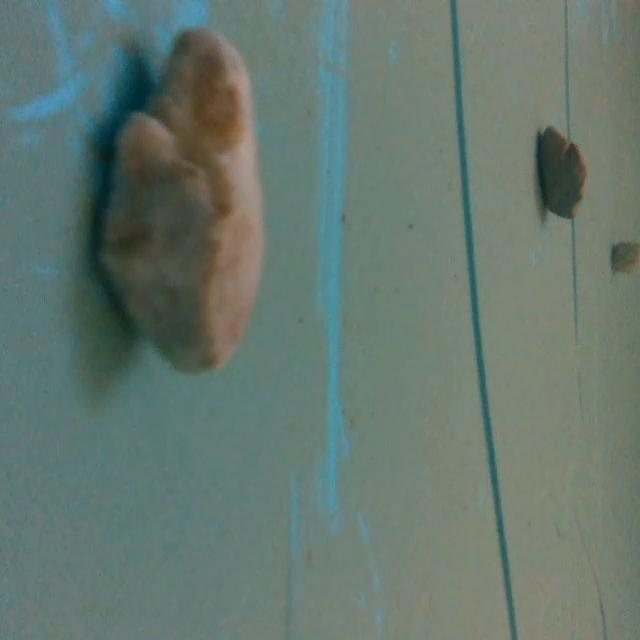rock: (87, 16, 270, 381), (531, 120, 592, 226)
